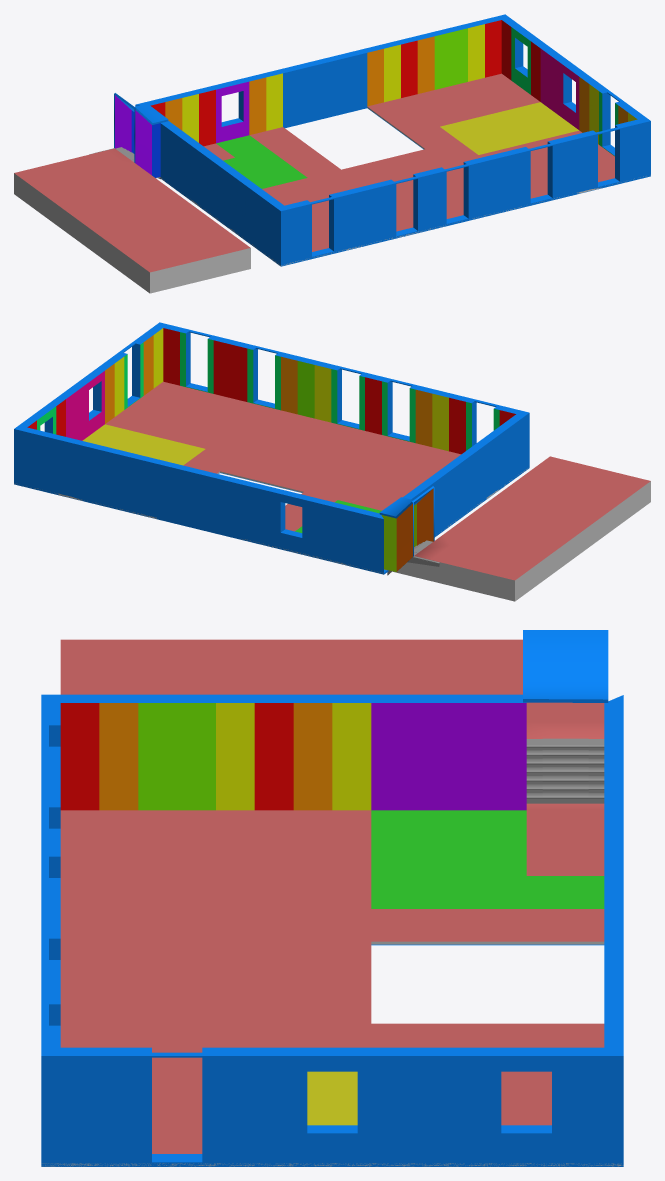
File: niveau-ending.fbx
The picture shows the model from 3 angles, top to bottom: view 1: azimuth 30°, elevation 25°; view 2: azimuth 150°, elevation 25°; view 3: azimuth 270°, elevation 25°; orthographic projection. The views are drawn at different scales.
Visible parts, largest first — view 1: sol_murs, sol, m6p0_2_2; view 2: sol_murs, sol, m6p0_2_2; view 3: sol, sol_murs, m6p0_2_2, esc.
Part boxes in pixels (box(x1,y1,x2,y2)): sol_murs: box(135, 14, 650, 266); sol: box(14, 73, 650, 293); m6p0_2_2: box(114, 93, 168, 177); sol_murs: box(14, 322, 529, 574); sol: box(14, 381, 650, 601); m6p0_2_2: box(379, 486, 434, 571); sol: box(41, 639, 623, 1166); sol_murs: box(41, 694, 623, 1166); m6p0_2_2: box(523, 630, 608, 702); esc: box(526, 738, 604, 803).
Size of the model in its own units: 1161 by 181 by 591.
